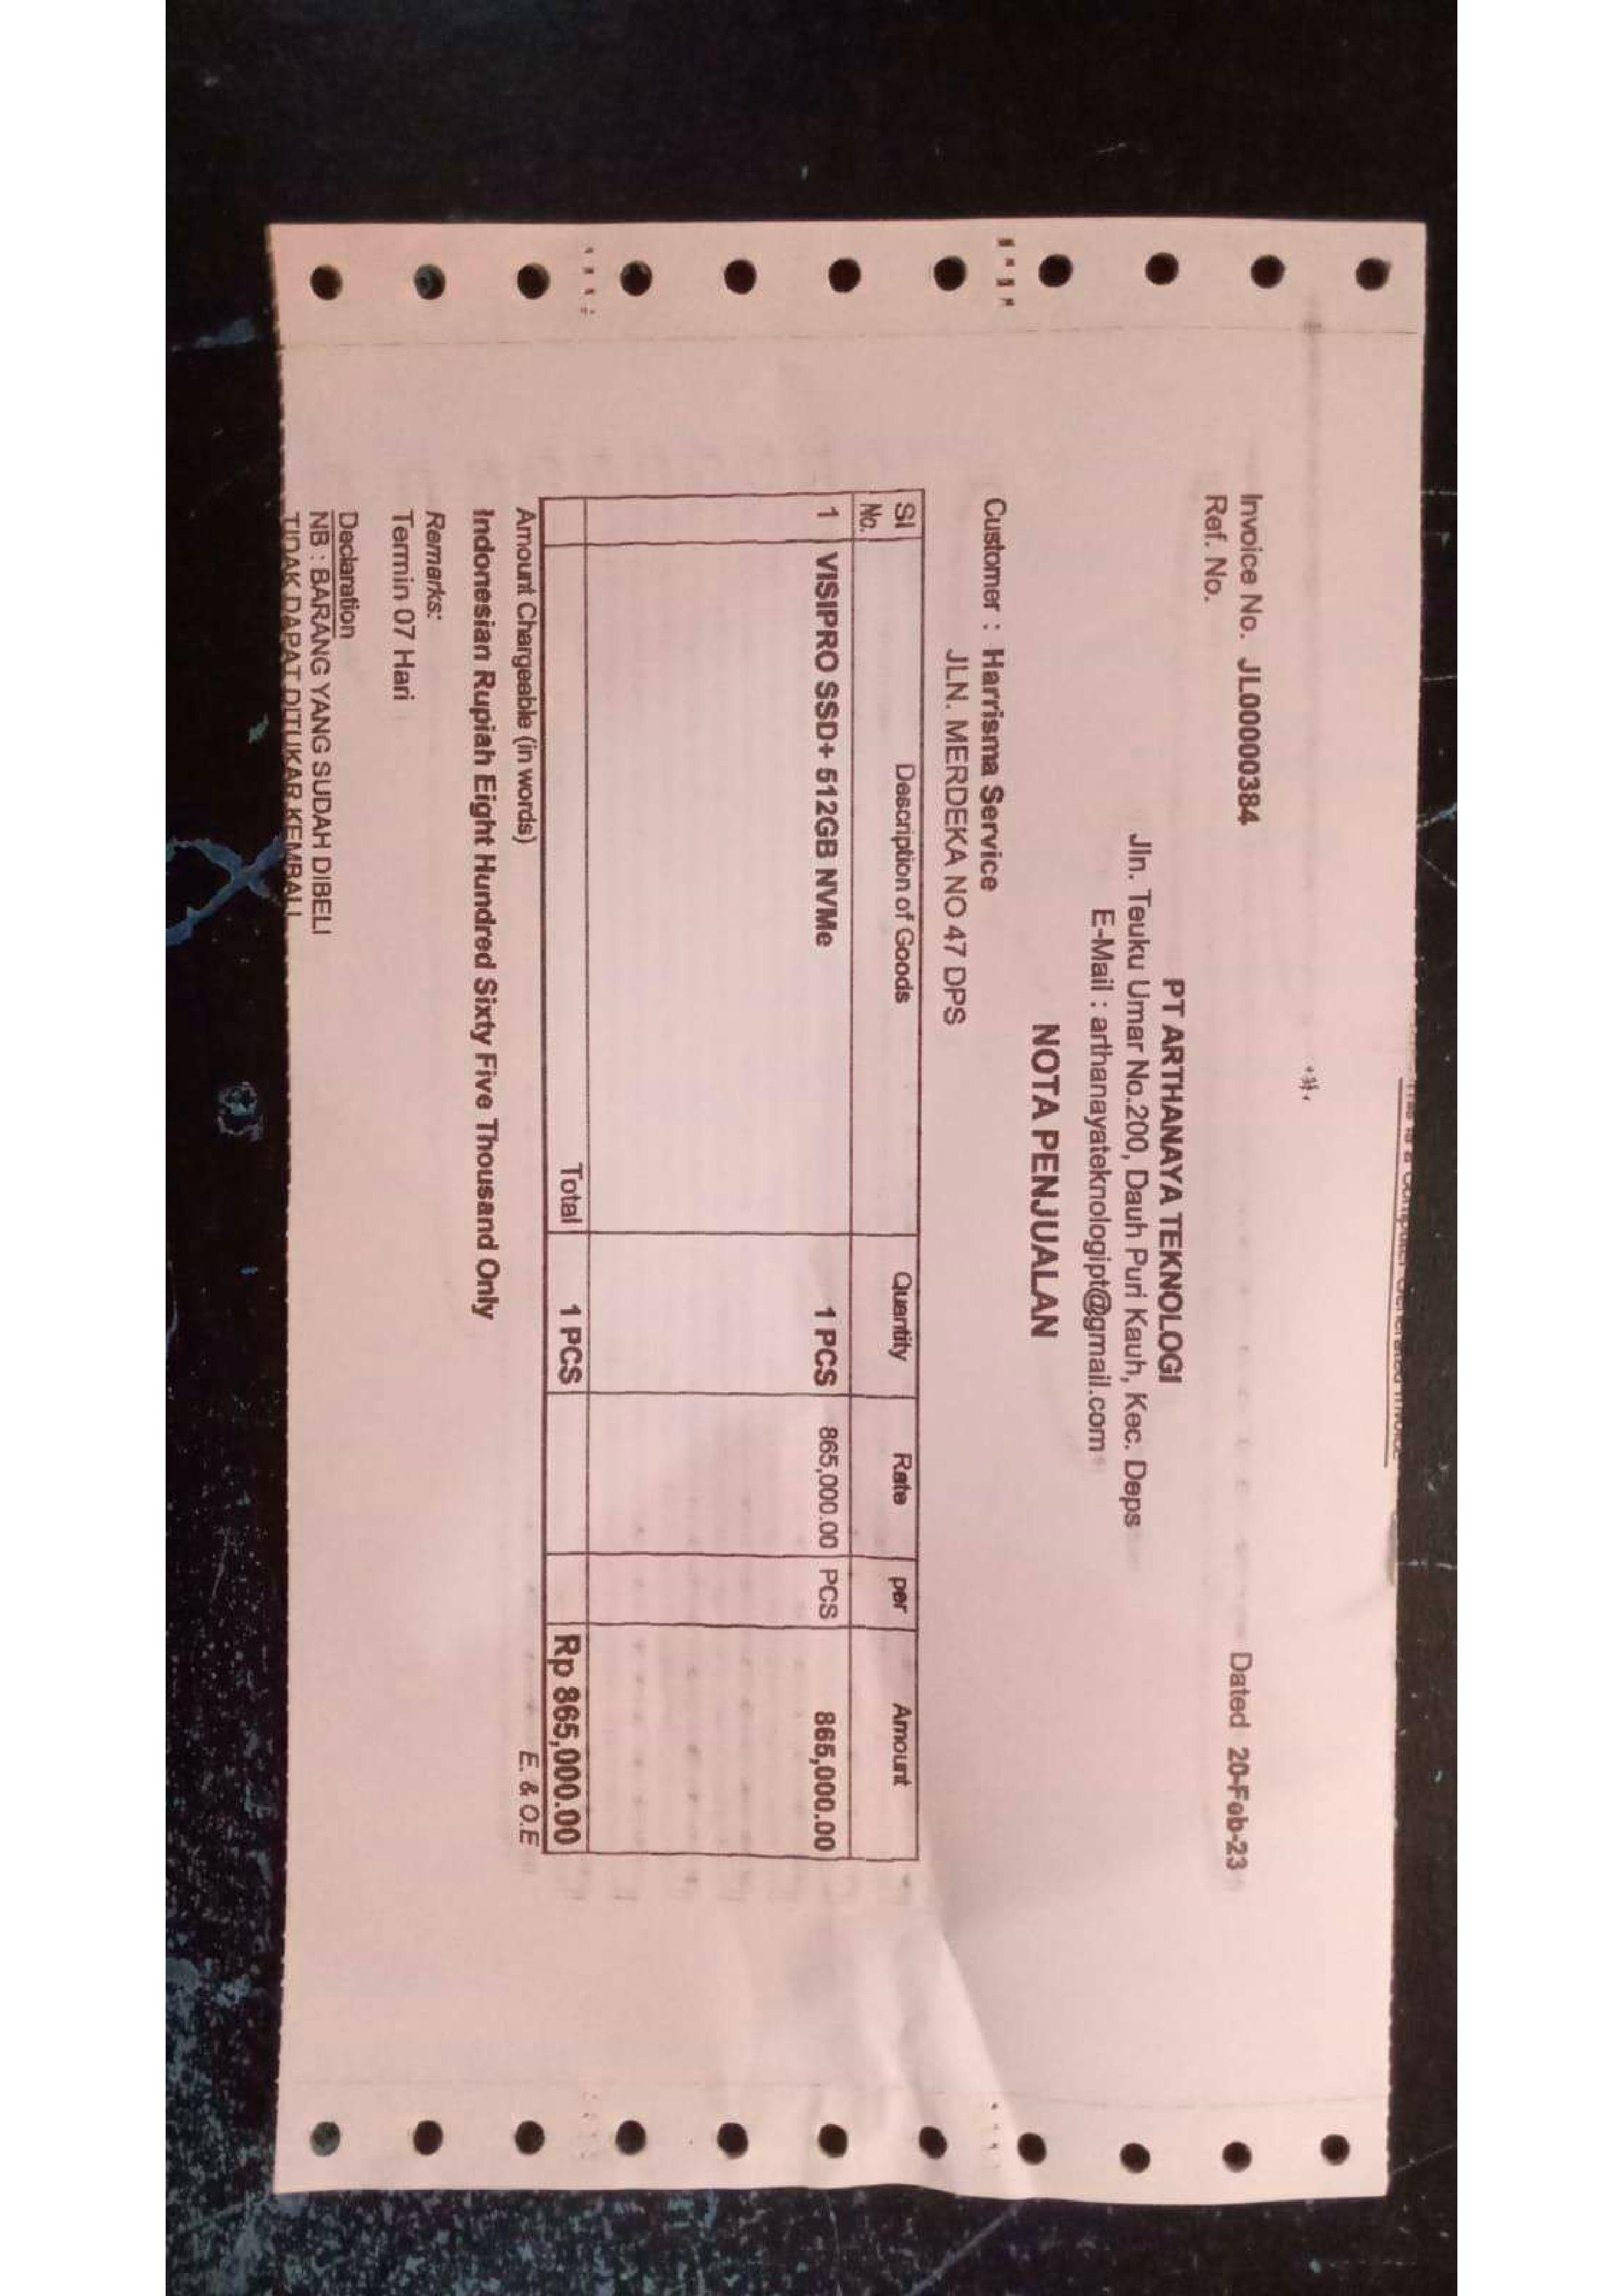InvoiceDate: (1224, 1740, 1258, 1875)
InvoiceNumber: (1231, 653, 1273, 830)
TotalAmount: (545, 1622, 588, 1850)
